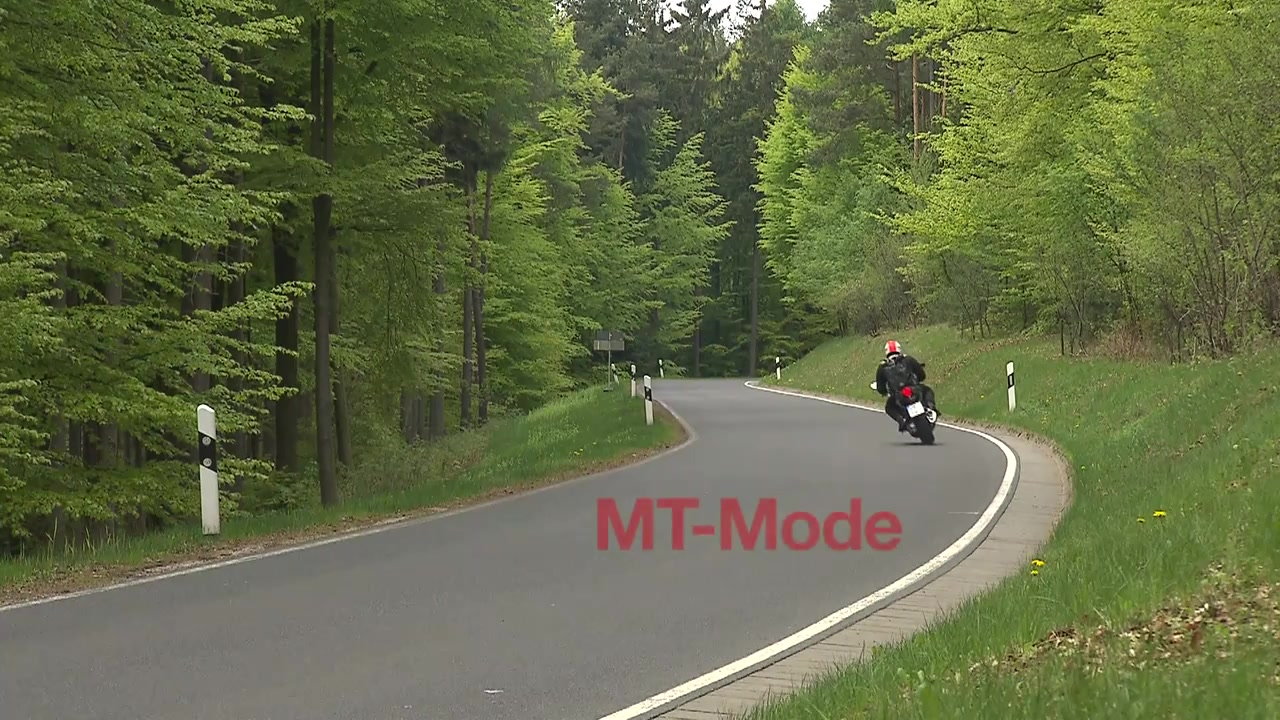motorbike: (871, 357, 938, 449)
